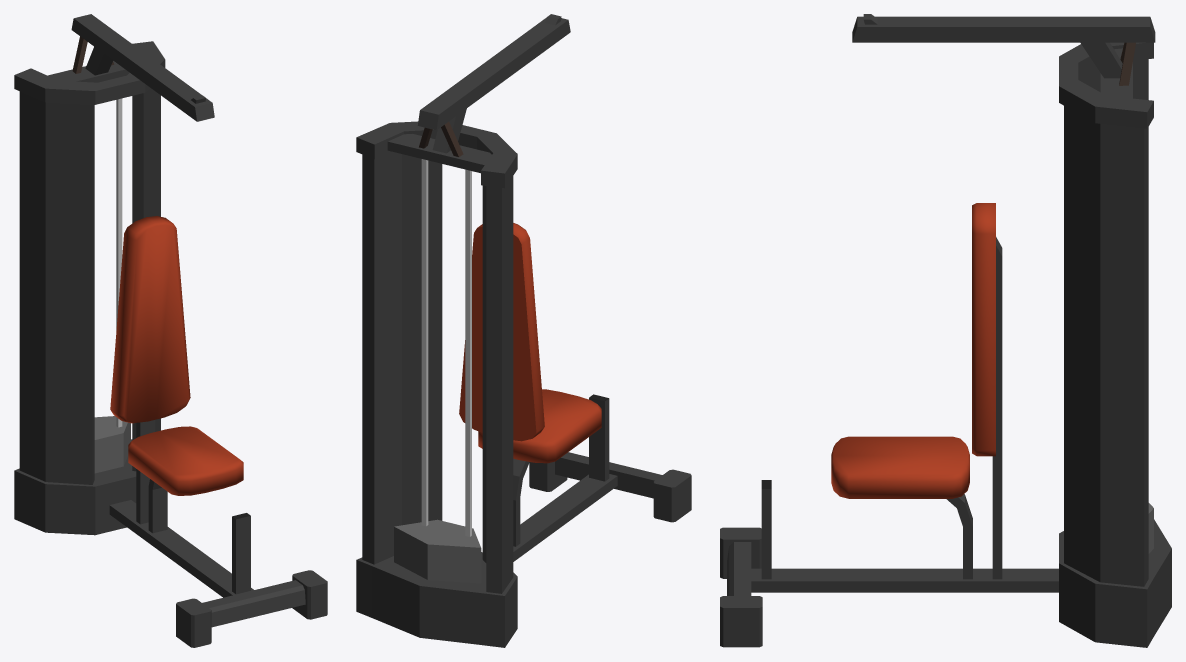
Rendered from emachine_4.glb.
3 renders of one model, left to right at view 1: azimuth 30°, elevation 25°; view 2: azimuth 150°, elevation 25°; view 3: azimuth 270°, elevation 25°, orthographic. The views are drawn at different scales.
Visible parts, largest first — view 1: E_Machine_4; view 2: E_Machine_4; view 3: E_Machine_4.
Boxes of the visible parts, bbox=[...] form: E_Machine_4: bbox=[14, 14, 327, 647]; E_Machine_4: bbox=[356, 14, 691, 647]; E_Machine_4: bbox=[720, 14, 1171, 647].
Size of the model in its own units: 0.6332 by 2.13 by 1.48.
Materials: 1 (1 with a texture image).
